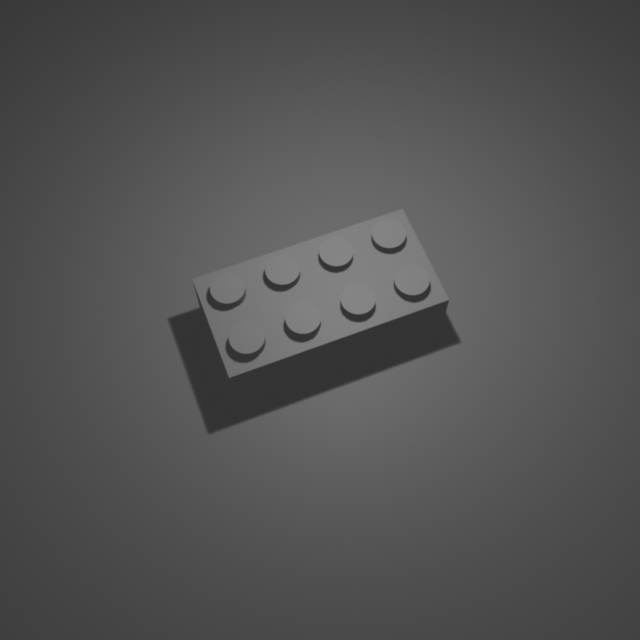lego_2x4: (191, 203, 451, 404)
